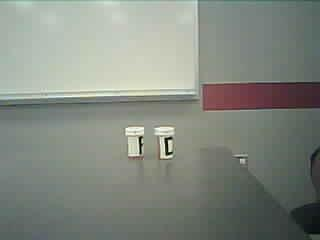Bottle D: (152, 124, 179, 165)
Bottle F: (122, 122, 148, 164)
